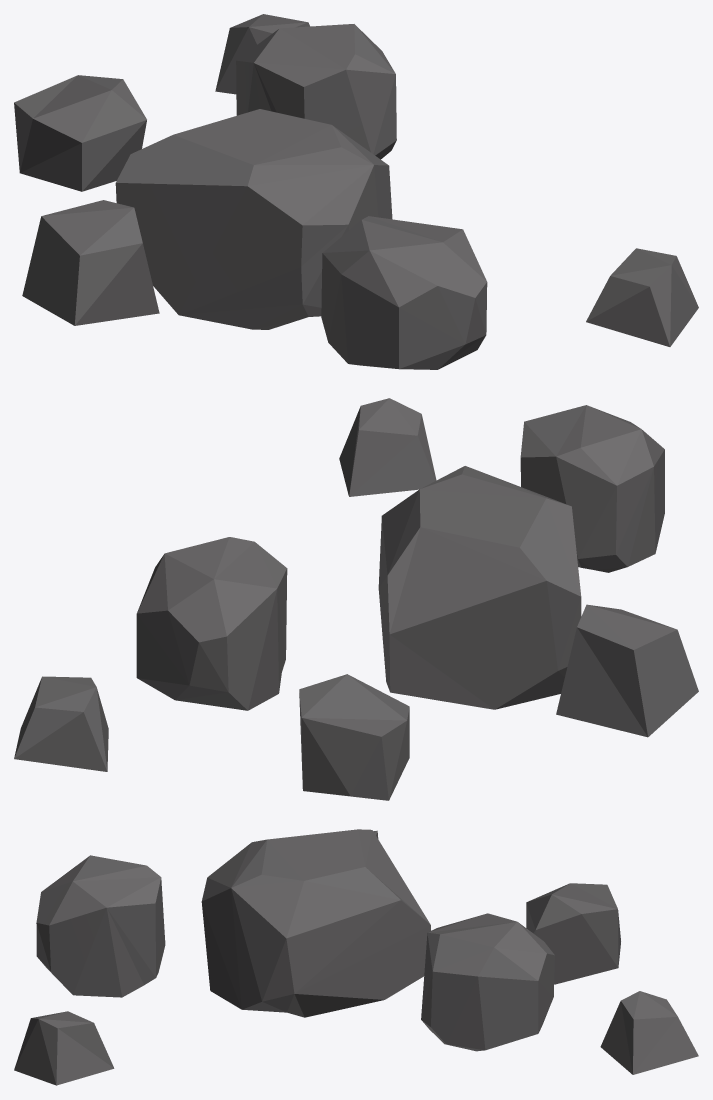
The model's file is apoc_SM_Env_Rubble_Pebbles_03.gltf.
3 renders of one model, top to bottom at view 1: azimuth 30°, elevation 25°; view 2: azimuth 150°, elevation 25°; view 3: azimuth 270°, elevation 25°, orthographic. The views are drawn at different scales.
Visible parts, largest first — view 1: SM_Env_Rubble_Pebbles_03; view 2: SM_Env_Rubble_Pebbles_03; view 3: SM_Env_Rubble_Pebbles_03.
Boxes of the visible parts, x1,y1,x2,y2 form: SM_Env_Rubble_Pebbles_03: (14,14,698,369); SM_Env_Rubble_Pebbles_03: (14,398,698,800); SM_Env_Rubble_Pebbles_03: (14,829,698,1085).
Bounding box in the file's own units: 0.7139 × 0.2478 × 1.02.
Materials: 1 (1 with a texture image).
